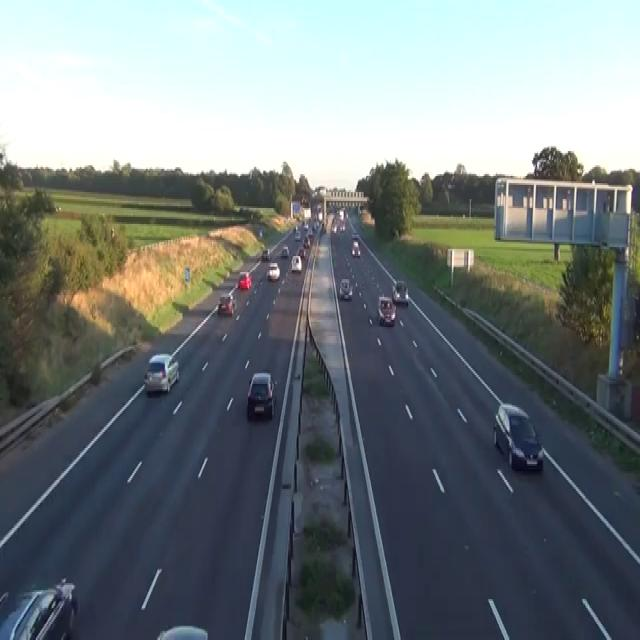Car: (0, 576, 79, 638), (493, 402, 543, 471), (143, 352, 179, 395), (246, 372, 276, 419), (156, 624, 208, 638), (377, 295, 396, 325), (391, 279, 408, 306), (217, 293, 235, 315), (237, 270, 252, 290), (339, 278, 352, 300), (266, 261, 280, 281), (0, 588, 9, 614), (291, 254, 302, 272), (351, 240, 360, 258), (229, 293, 236, 311), (280, 245, 289, 258), (300, 196, 309, 206), (297, 247, 305, 258), (351, 231, 360, 240), (261, 249, 269, 259), (327, 203, 335, 213), (54, 202, 61, 212), (303, 237, 310, 247), (312, 221, 319, 231), (294, 229, 300, 240), (331, 222, 337, 233), (339, 221, 345, 231), (446, 182, 454, 188), (307, 230, 313, 238), (321, 224, 326, 233), (303, 222, 308, 230), (259, 228, 262, 236)
